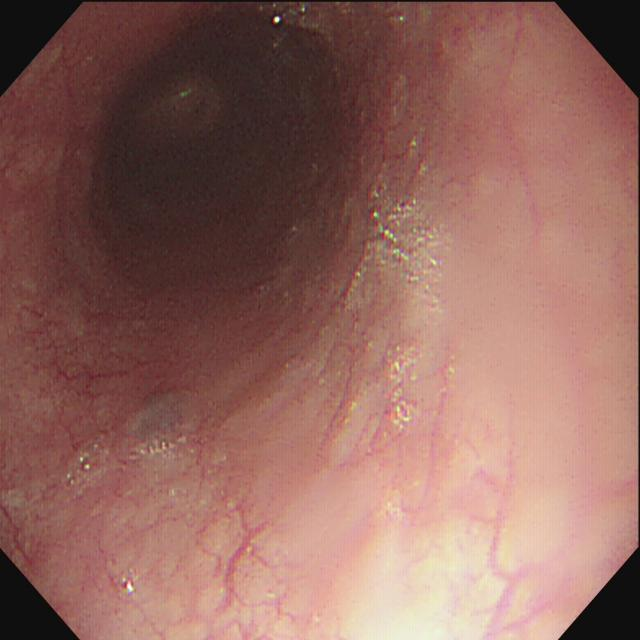E: (82, 32, 313, 266)
T: (351, 185, 447, 306), (59, 434, 202, 491), (382, 339, 431, 437), (259, 3, 335, 35)
